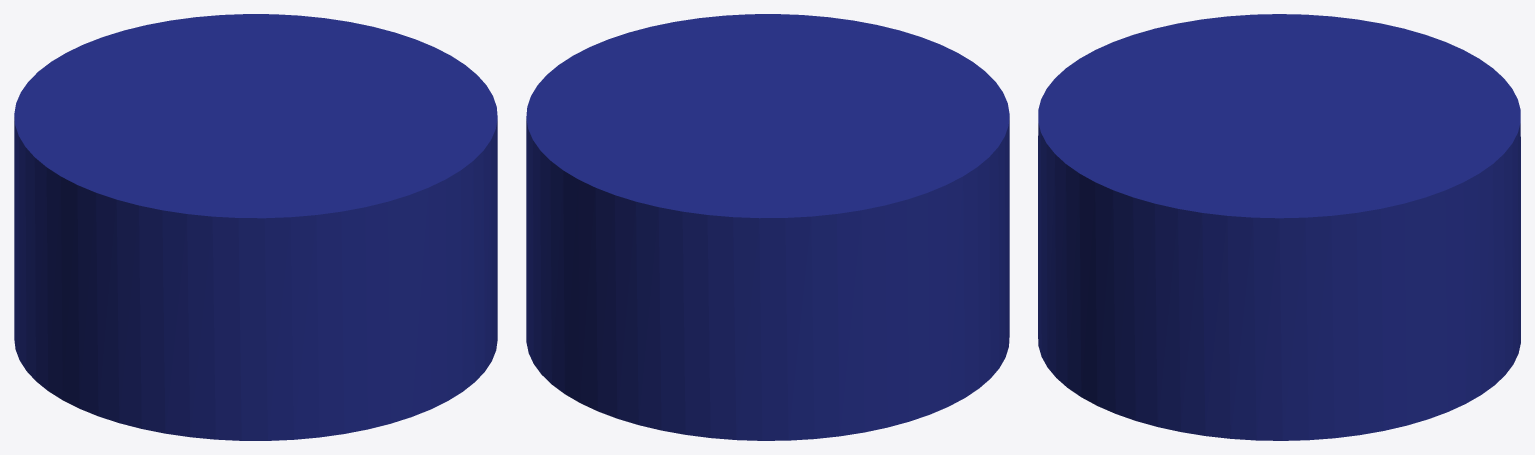
Rendered from right_wheel2_Body1.obj.
The picture shows the model from 3 angles, left to right: view 1: azimuth 30°, elevation 25°; view 2: azimuth 150°, elevation 25°; view 3: azimuth 270°, elevation 25°; orthographic projection.
Size of the model in its own units: 236 by 120 by 236.
